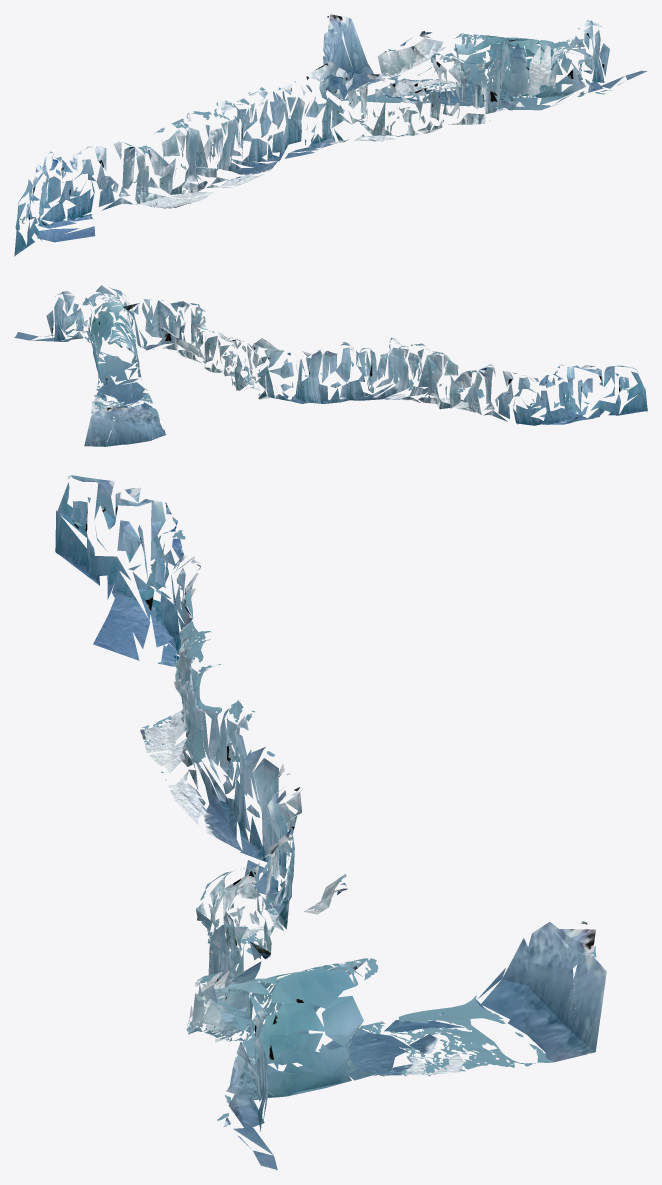
The model's file is icewall.glb.
3 views of the same model, one above another, from view 1: azimuth 30°, elevation 25°; view 2: azimuth 150°, elevation 25°; view 3: azimuth 270°, elevation 25° (orthographic). The views are drawn at different scales.
Visible parts, largest first — view 1: Object_8, Object_4, Object_6, Object_2, Object_10, Object_11, Object_12, Object_9, Object_5, Object_7; view 2: Object_8, Object_4, Object_2, Object_6, Object_10, Object_11, Object_12, Object_9, Object_5, Object_7; view 3: Object_10, Object_8, Object_4, Object_2, Object_6, Object_11, Object_9, Object_12, Object_7.
Boxes of the visible parts, x1=… form: Object_8: x1=27, y1=14, x2=609, y2=245; Object_4: x1=14, y1=30, x2=604, y2=255; Object_6: x1=32, y1=25, x2=603, y2=242; Object_2: x1=15, y1=39, x2=595, y2=230; Object_10: x1=14, y1=16, x2=642, y2=256; Object_11: x1=29, y1=35, x2=647, y2=221; Object_12: x1=40, y1=15, x2=625, y2=214; Object_9: x1=35, y1=43, x2=624, y2=210; Object_5: x1=122, y1=83, x2=367, y2=189; Object_7: x1=28, y1=47, x2=586, y2=207; Object_8: x1=46, y1=291, x2=620, y2=446; Object_4: x1=54, y1=285, x2=647, y2=425; Object_2: x1=60, y1=301, x2=645, y2=413; Object_6: x1=59, y1=293, x2=603, y2=424; Object_10: x1=14, y1=287, x2=647, y2=446; Object_11: x1=15, y1=291, x2=618, y2=439; Object_12: x1=40, y1=295, x2=589, y2=434; Object_9: x1=31, y1=305, x2=595, y2=421; Object_5: x1=247, y1=345, x2=493, y2=403; Object_7: x1=86, y1=293, x2=614, y2=408; Object_10: x1=56, y1=475, x2=606, y2=1170; Object_8: x1=87, y1=525, x2=595, y2=1122; Object_4: x1=55, y1=501, x2=411, y2=1131; Object_2: x1=57, y1=482, x2=333, y2=1100; Object_6: x1=93, y1=492, x2=322, y2=1127; Object_11: x1=87, y1=497, x2=530, y2=1169; Object_9: x1=124, y1=487, x2=330, y2=1155; Object_12: x1=128, y1=502, x2=594, y2=1148; Object_7: x1=94, y1=479, x2=285, y2=1038.
Size of the model in its own units: 25.74 by 4.25 by 10.63.
Materials: 10 (10 with a texture image).
